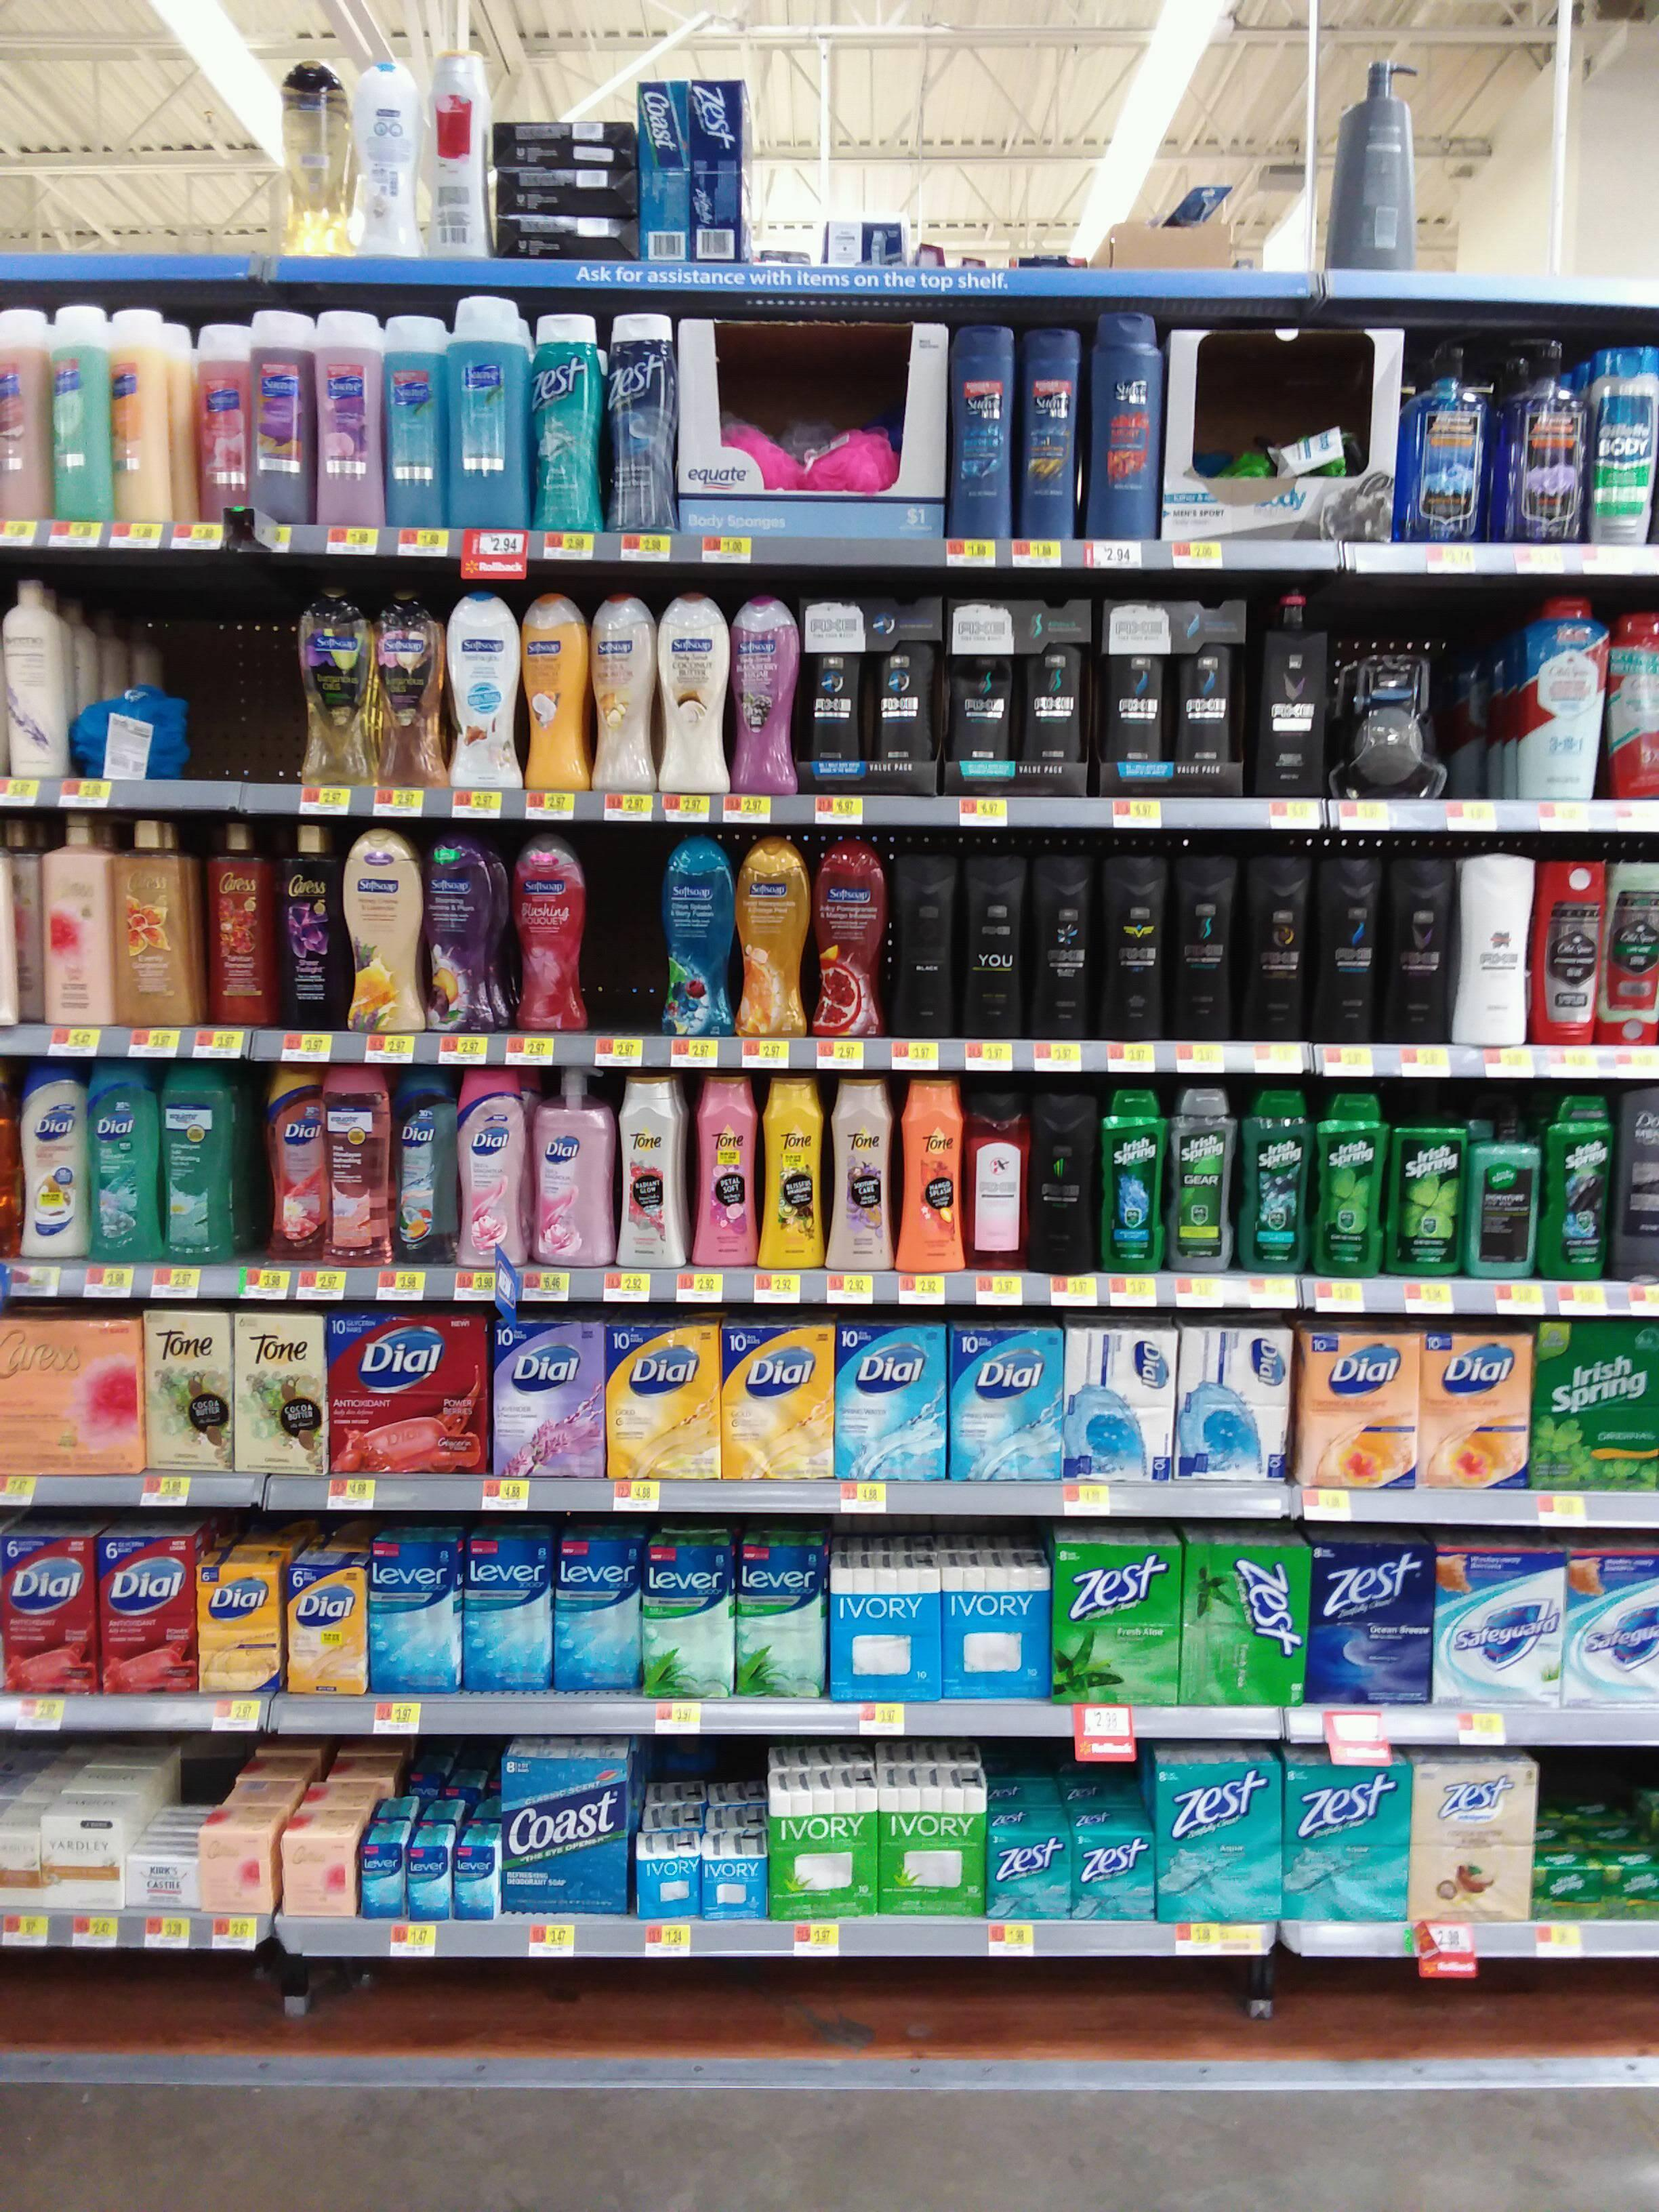empty: (0, 61, 131, 258), (873, 71, 1004, 268), (1004, 75, 1134, 272), (1140, 78, 1270, 273), (139, 71, 265, 256), (1528, 94, 1633, 279), (1419, 92, 1523, 275), (760, 78, 864, 261), (1436, 610, 1528, 806), (195, 608, 295, 787), (580, 843, 662, 1024), (1537, 1752, 1649, 1836)
